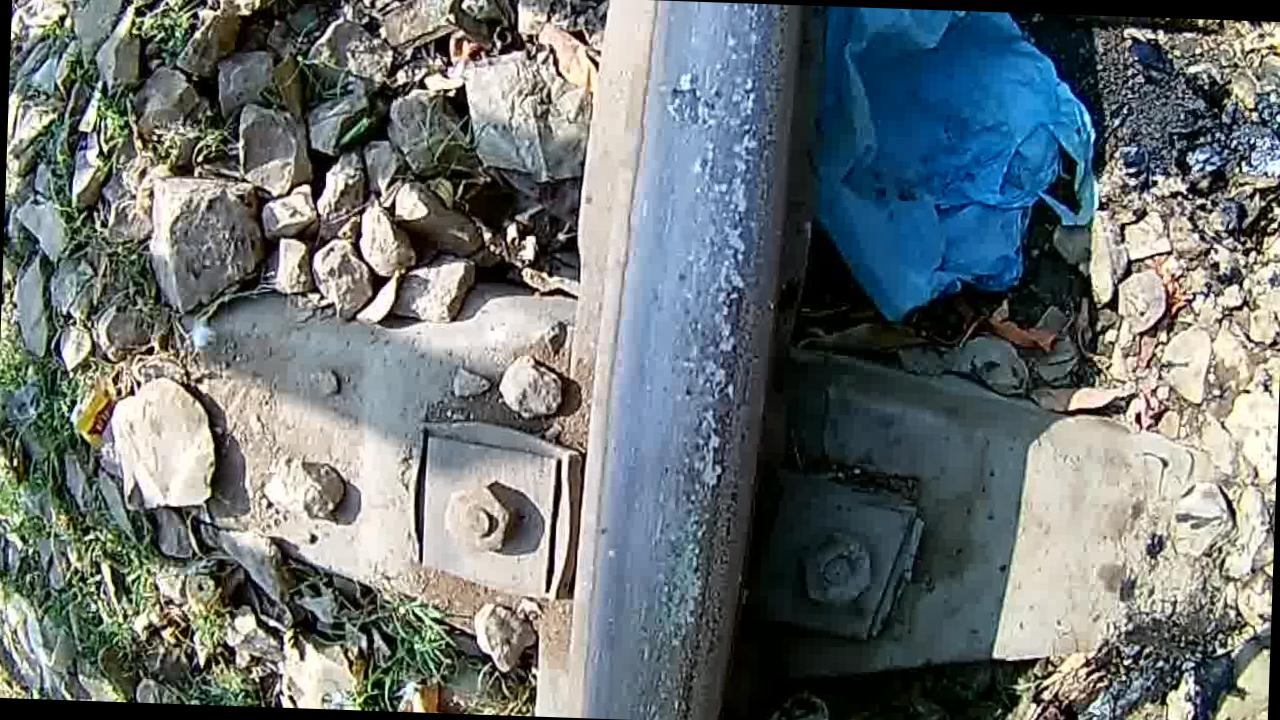crack: (615, 3, 798, 720)
